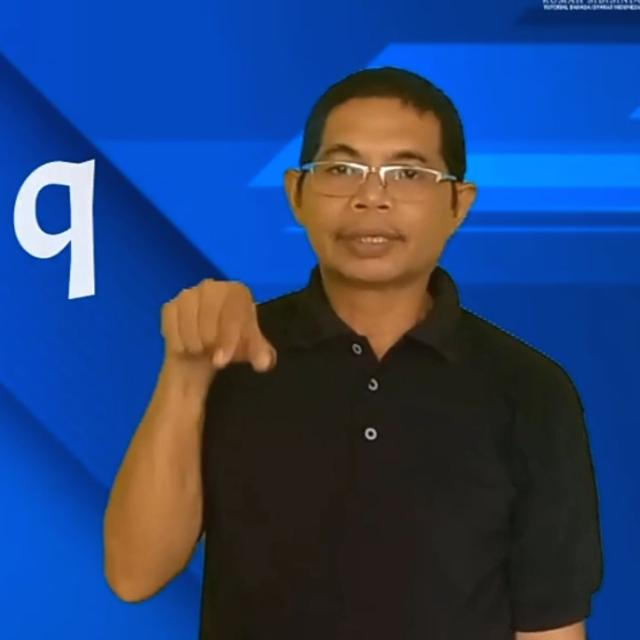Q: (158, 272, 282, 376)
